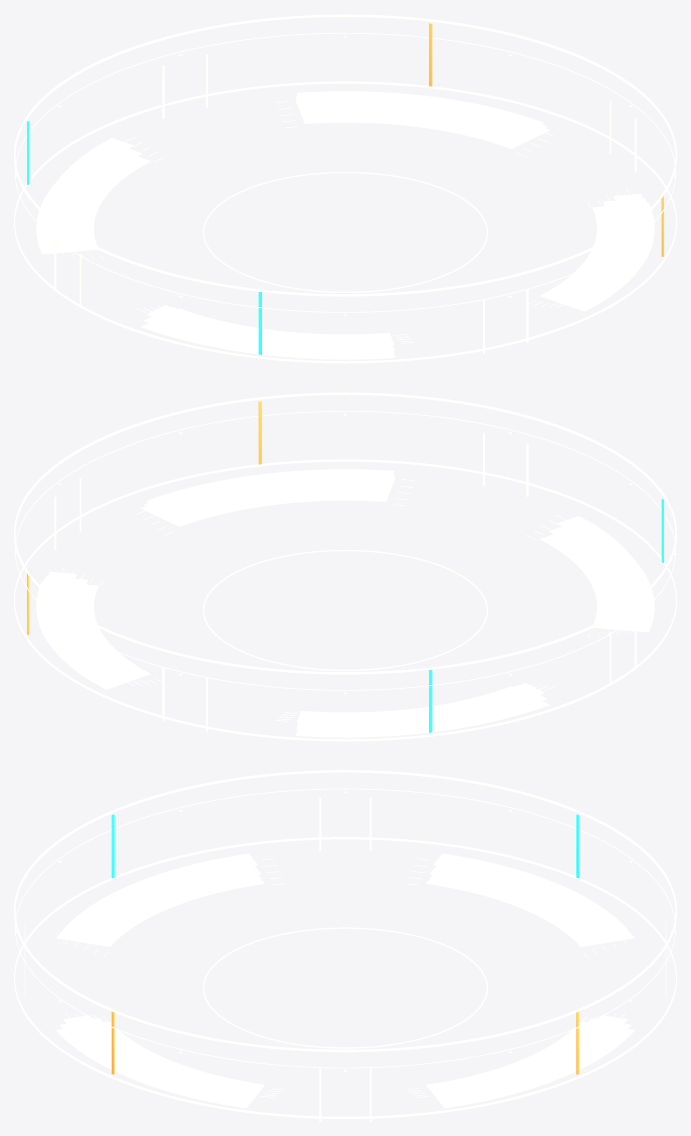
File: SM_TestStadium_Lights.glb
The picture shows the model from 3 angles, top to bottom: view 1: azimuth 30°, elevation 25°; view 2: azimuth 150°, elevation 25°; view 3: azimuth 270°, elevation 25°; orthographic projection.
Parts seen in each view (by area): view 1: SM_TestStadium_Lights; view 2: SM_TestStadium_Lights; view 3: SM_TestStadium_Lights.
Part boxes in pixels (bbox=[...]): SM_TestStadium_Lights: bbox=[14, 14, 676, 363]; SM_TestStadium_Lights: bbox=[14, 392, 676, 741]; SM_TestStadium_Lights: bbox=[14, 770, 676, 1121].
Size of the model in its own units: 31.07 by 4.05 by 31.07.
